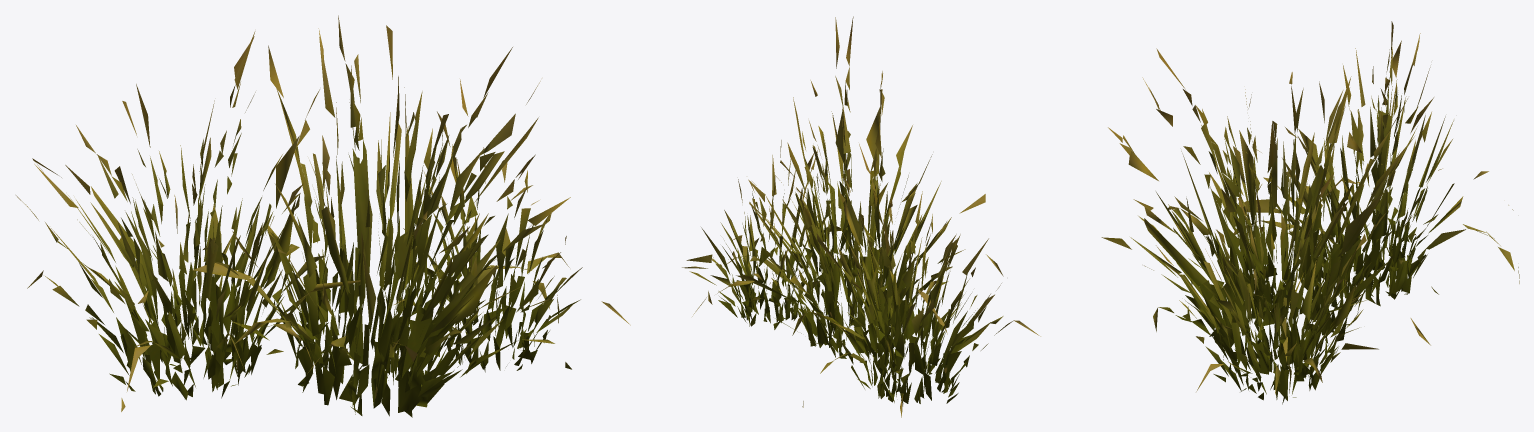
The model's file is desert_grass_fine_trio_lod1.glb.
3 views of the same model, side by side, from view 1: azimuth 30°, elevation 25°; view 2: azimuth 150°, elevation 25°; view 3: azimuth 270°, elevation 25° (orthographic). The views are drawn at different scales.
Visible parts, largest first — view 1: desert_grass_fine_trio.001; view 2: desert_grass_fine_trio.001; view 3: desert_grass_fine_trio.001.
Part boxes in pixels (x1,y1,x2,y2): desert_grass_fine_trio.001: (16,15,630,417); desert_grass_fine_trio.001: (682,16,1040,417); desert_grass_fine_trio.001: (1101,21,1519,404).
Size of the model in its own units: 1.36 by 0.9721 by 1.15.
Materials: 1 (1 with a texture image).
